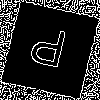P: (24, 25, 70, 78)
